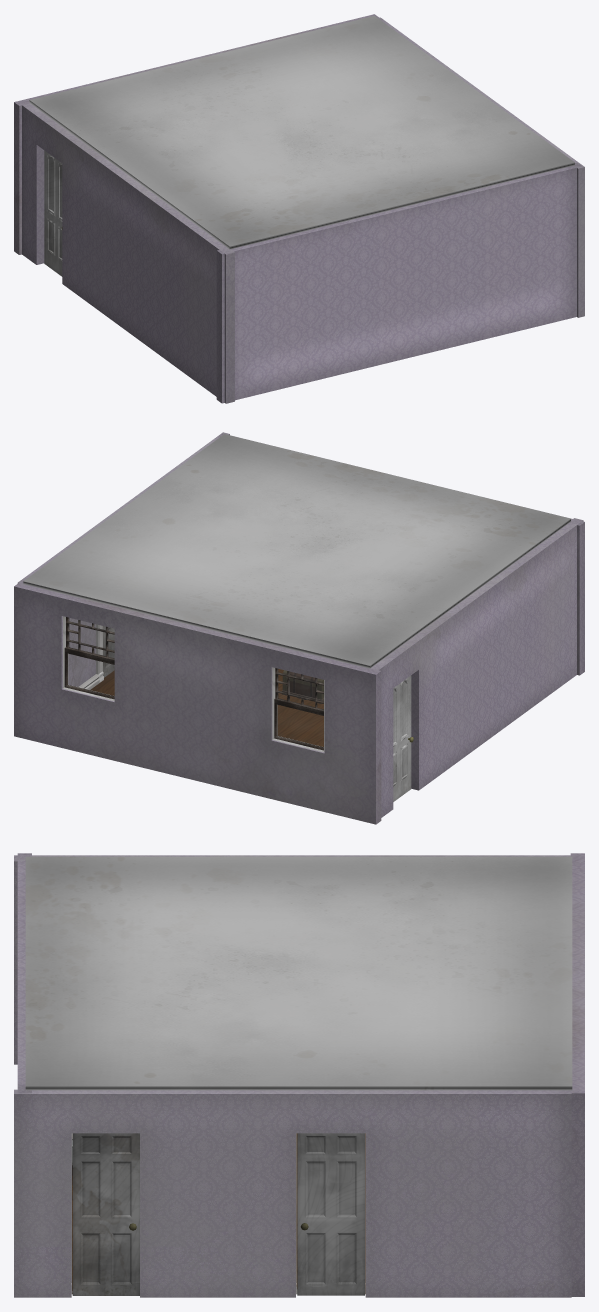
File: bedroom_trish_02.fbx
3 views of the same model, one above another, from view 1: azimuth 30°, elevation 25°; view 2: azimuth 150°, elevation 25°; view 3: azimuth 270°, elevation 25° (orthographic). The views are drawn at different scales.
Parts seen in each view (by area): view 1: ceiling, wall03, wall01, polySurface92, wall02, wall04; view 2: ceiling, wall02, wall01, glass_lower (×2), window_01 (×2), floor, polySurface92, wall04, glass_upper (×2), wall03, chest, frame01 (+1 smaller); view 3: ceiling, wall04, pasted__door (×2), wall02, wall03, wall01, floor.
Boxes of the visible parts, left/top/right/bottom form: ceiling: left=29, top=16, right=574, bottom=249; wall03: left=216, top=162, right=581, bottom=403; wall01: left=22, top=103, right=234, bottom=403; polySurface92: left=44, top=150, right=62, bottom=276; wall02: left=14, top=14, right=379, bottom=254; wall04: left=378, top=17, right=584, bottom=317; ceiling: left=23, top=434, right=570, bottom=668; wall02: left=14, top=582, right=381, bottom=824; wall01: left=370, top=518, right=583, bottom=817; glass_lower (×2): left=68, top=654, right=323, bottom=746; window_01 (×2): left=64, top=617, right=323, bottom=750; floor: left=90, top=669, right=323, bottom=746; polySurface92: left=393, top=675, right=411, bottom=801; wall04: left=17, top=432, right=229, bottom=686; glass_upper (×2): left=69, top=618, right=323, bottom=708; wall03: left=218, top=434, right=584, bottom=675; chest: left=282, top=670, right=323, bottom=703; frame01: left=272, top=667, right=324, bottom=752; ceiling: left=25, top=856, right=572, bottom=1090; wall04: left=14, top=1089, right=571, bottom=1297; pasted__door (×2): left=72, top=1133, right=364, bottom=1295; wall02: left=570, top=853, right=584, bottom=1296; wall03: left=17, top=853, right=31, bottom=1093; wall01: left=14, top=855, right=571, bottom=1064; floor: left=72, top=1133, right=365, bottom=1294.
Bounding box in the file's own units: 253 × 102 × 252.
